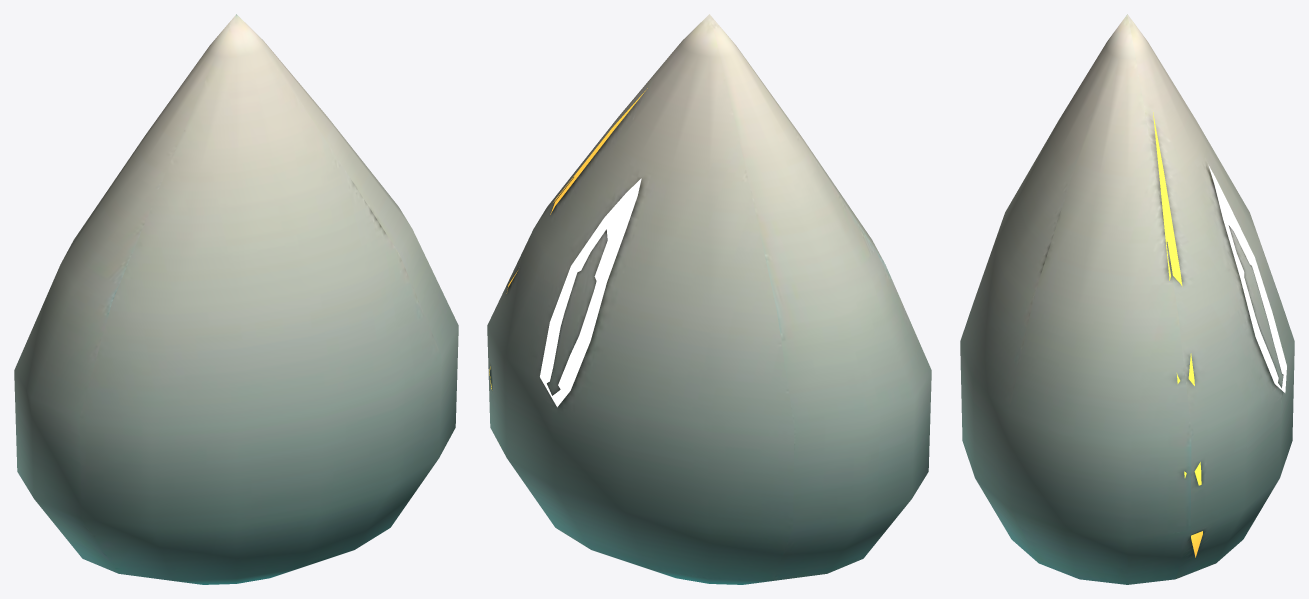
3 renders of one model, left to right at view 1: azimuth 30°, elevation 25°; view 2: azimuth 150°, elevation 25°; view 3: azimuth 270°, elevation 25°, orthographic.
Parts seen in each view (by area): view 1: Lagoon_glass; view 2: Lagoon_glass, glow_White_gloss_glint; view 3: Lagoon_glass, glow_White_gloss_glint, glow_Sunset_rim_glint.
Boxes of the visible parts, x1=… form: Lagoon_glass: x1=14, y1=14, x2=458, y2=584; Lagoon_glass: x1=487, y1=14, x2=931, y2=584; glow_White_gloss_glint: x1=540, y1=178, x2=641, y2=407; Lagoon_glass: x1=960, y1=14, x2=1294, y2=584; glow_White_gloss_glint: x1=1208, y1=165, x2=1286, y2=392; glow_Sunset_rim_glint: x1=1153, y1=112, x2=1202, y2=557.
Bounding box in the file's own units: 0.72 × 0.92 × 0.5184.
3 materials, 1 textured.
